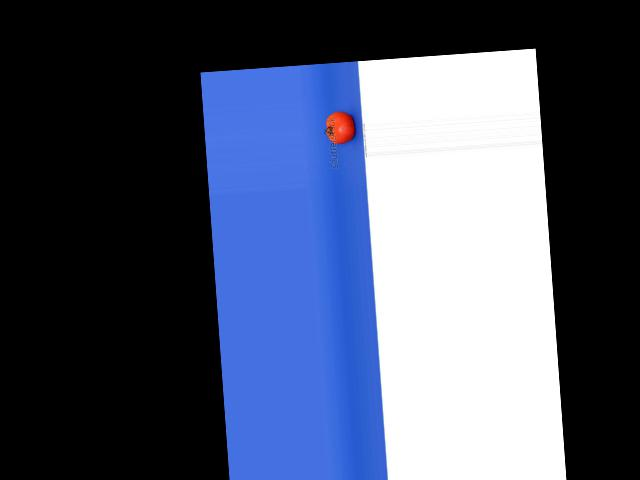tomato: (325, 109, 355, 144)
